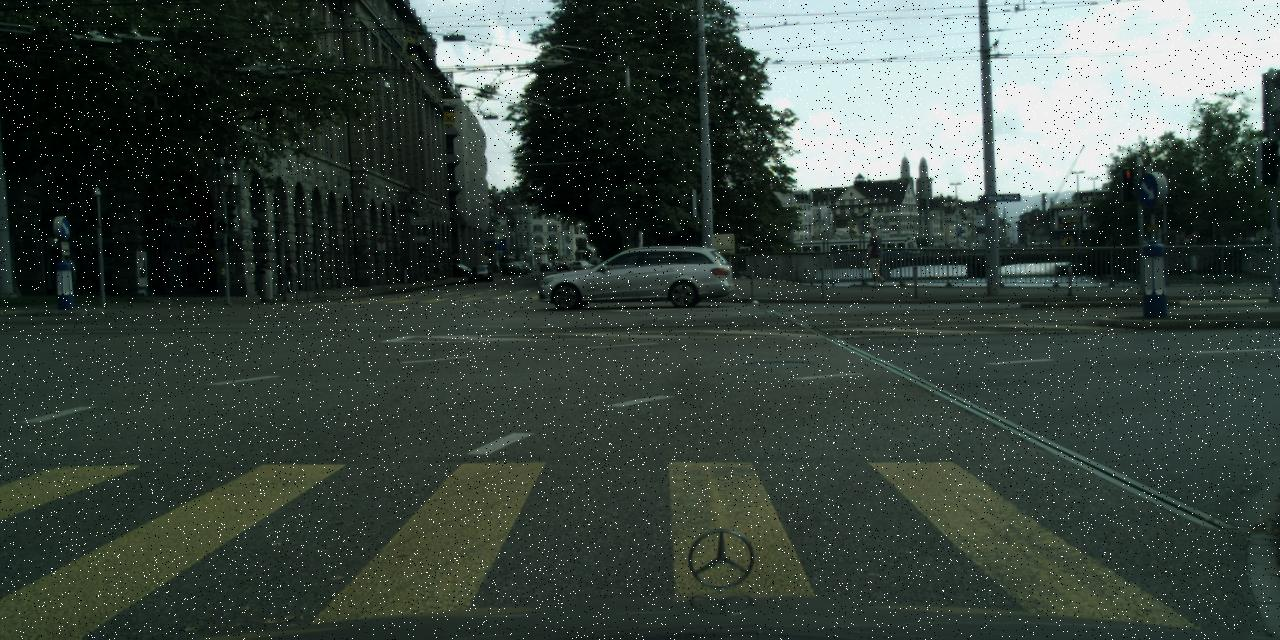ped: (864, 227, 887, 285), (282, 257, 296, 292)
